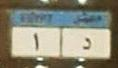1: (33, 32, 40, 50)
daal: (81, 36, 92, 51)
